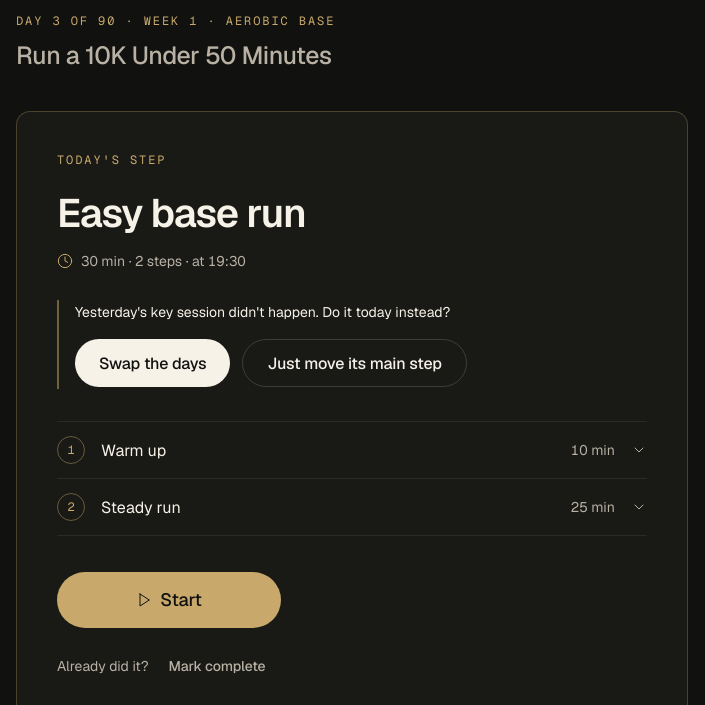
Scenario: Today: swap offer, set today aside, swap with another day (missed sessions M3.3) › swap offer › after a refused swap, "Just move its main step" carries now and shows the carried line
The width and height of the screenshot is (705, 705).
Click the button "Just move its main step" at (355, 364), box [242,340,467,388]
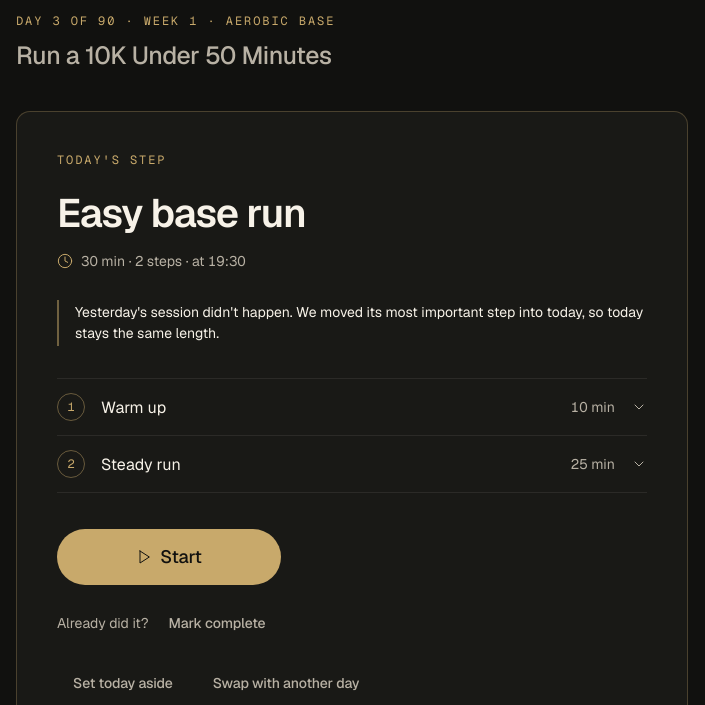
Expected: the text "Yesterday's session didn't happen. We moved its most important step into today, so today stays the same length." is shown, [75,304,643,342]
Expected: the button "Swap the days" is gone
